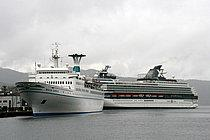Ship: (13, 37, 106, 118), (83, 63, 205, 113)
